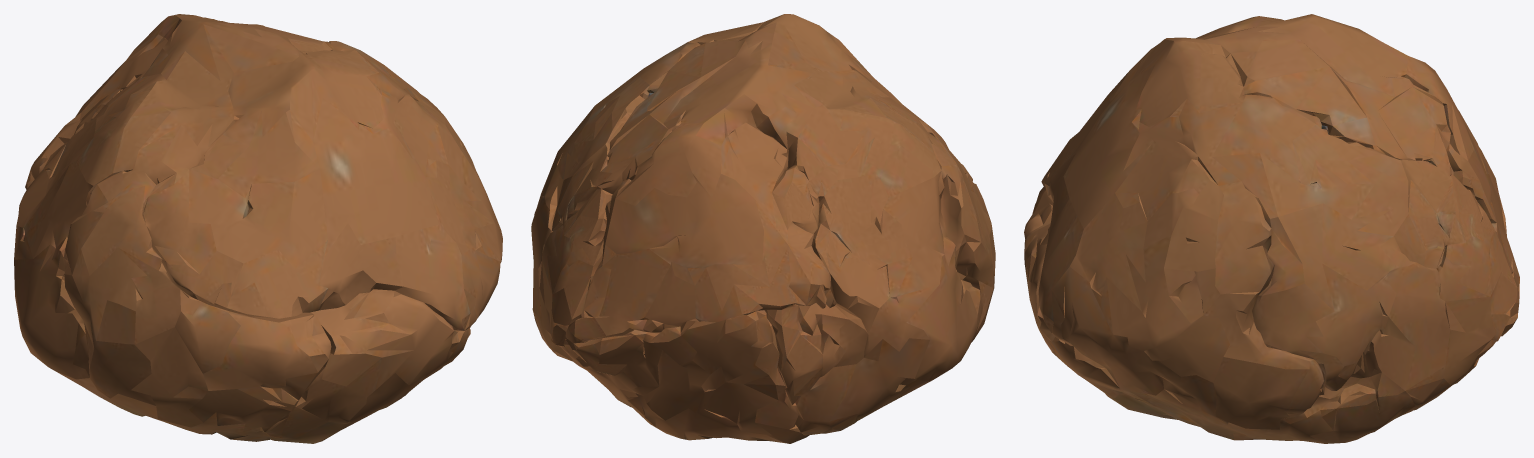
The model's file is boulder_a.glb.
3 renders of one model, left to right at view 1: azimuth 30°, elevation 25°; view 2: azimuth 150°, elevation 25°; view 3: azimuth 270°, elevation 25°, orthographic. The views are drawn at different scales.
Parts seen in each view (by area): view 1: output_unwrapped; view 2: output_unwrapped; view 3: output_unwrapped.
Part boxes in pixels (<box>): output_unwrapped: <box>14,14,502,443</box>; output_unwrapped: <box>531,14,995,443</box>; output_unwrapped: <box>1024,14,1519,443</box>.
Bounding box in the file's own units: 1.9 × 1.48 × 1.88.
1 material, 1 textured.
